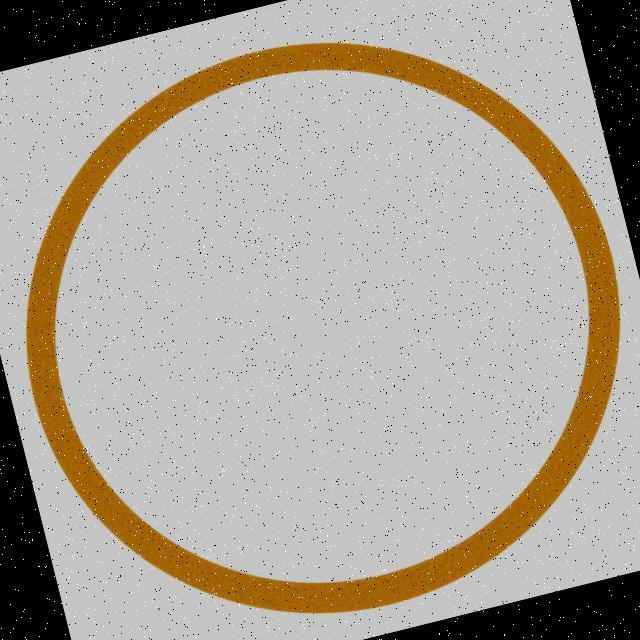Circle: (23, 36, 624, 618)
